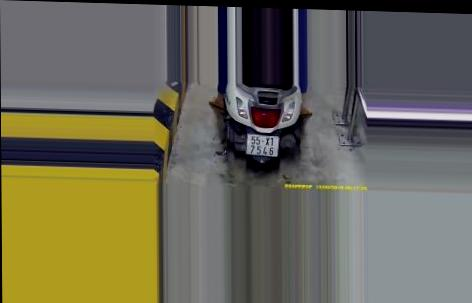License_Plate: (244, 132, 281, 159)
